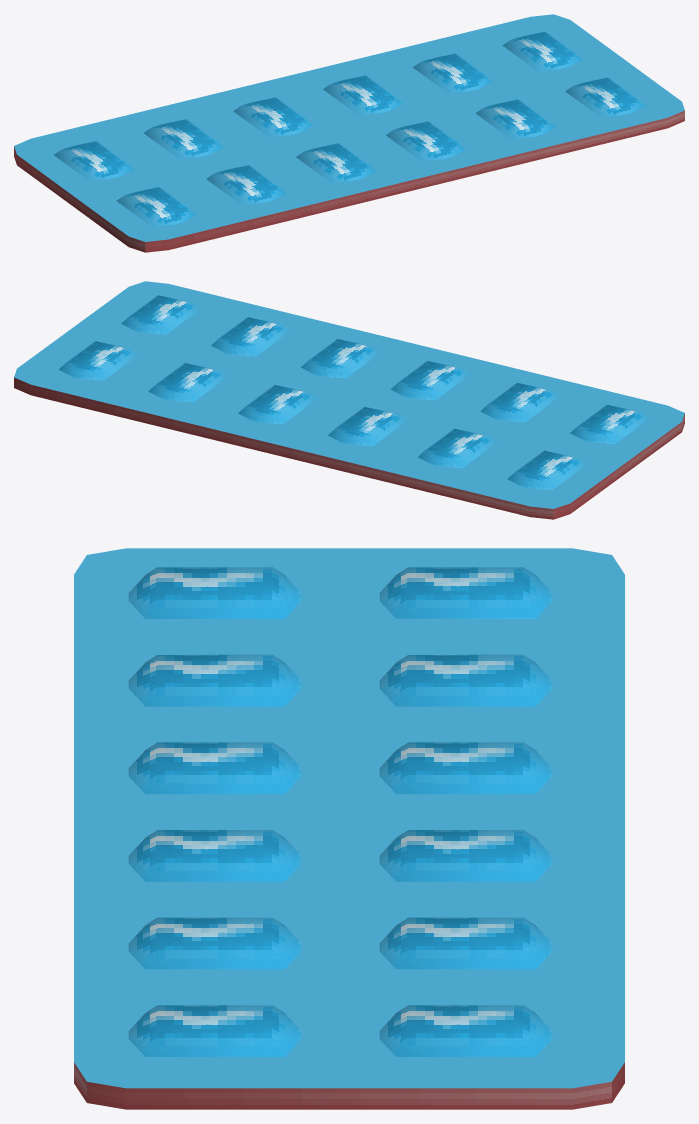
File: AntibioticsBlisterV2Empty.fbx
3 renders of one model, top to bottom at view 1: azimuth 30°, elevation 25°; view 2: azimuth 150°, elevation 25°; view 3: azimuth 270°, elevation 25°, orthographic. The views are drawn at different scales.
Visible parts, largest first — view 1: PainKillers; view 2: PainKillers; view 3: PainKillers.
Boxes of the visible parts, x1,y1,x2,y2 form: PainKillers: (14,14,684,252); PainKillers: (14,281,684,519); PainKillers: (74,548,624,1109).
Size of the model in its own units: 27.6 by 0.8116 by 11.91.
